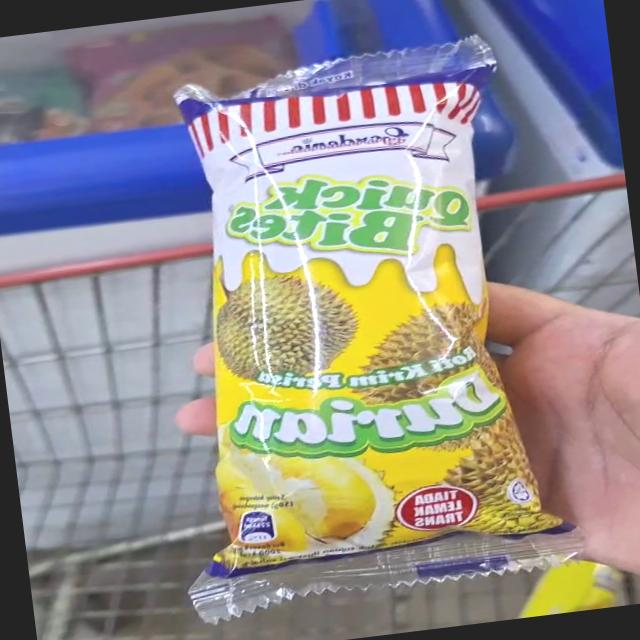Roti: (107, 41, 576, 636)
